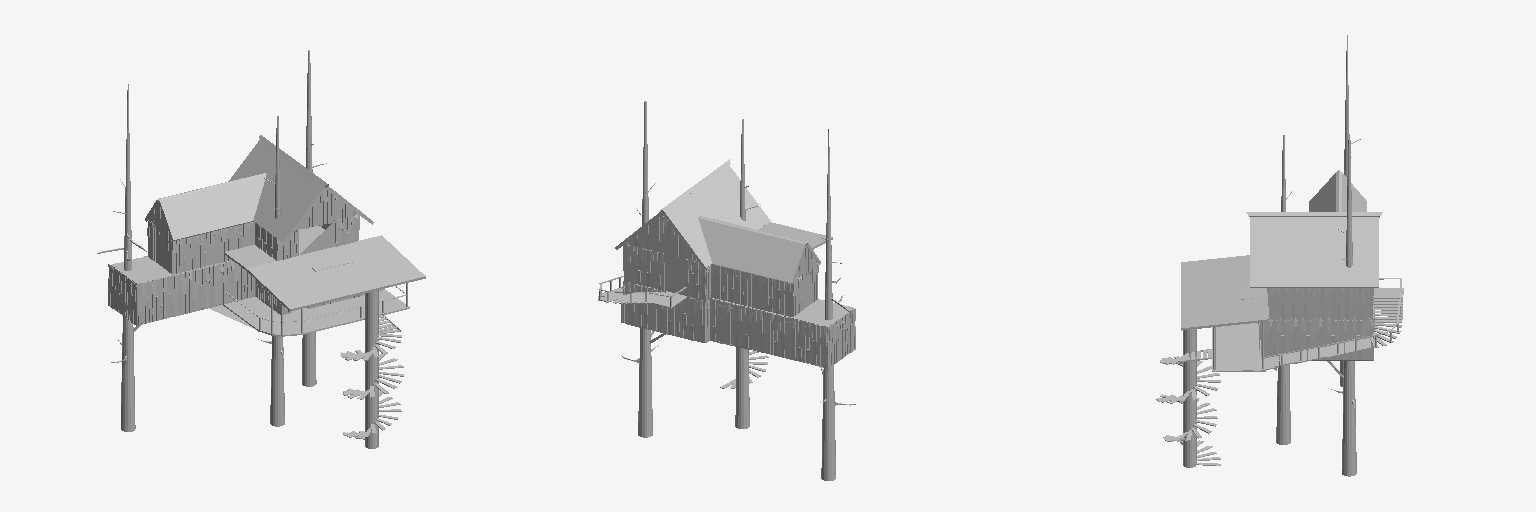
The model's file is tree_house.obj.
3 renders of one model, left to right at view 1: azimuth 30°, elevation 25°; view 2: azimuth 150°, elevation 25°; view 3: azimuth 270°, elevation 25°, orthographic.
Parts seen in each view (by area): view 1: roof_1_Cube.139, wall.002_Cube.120, floor_1_Cube.197, wall.007_Cube.281, tree_3_Cube.011, wall.009_Cube.310, stairs_1_Cube.269, tree_4_Cylinder.015, tree_1_Cube.010, inside_2_Cube.160, floor_2_Cube.027, tree_2_Cube.007 (+3 smaller); view 2: roof_1_Cube.139, wall.004_Cube.167, wall.003_Cube.153, wall.010_Cube.318, wall.006_Cube.210, tree_3_Cube.011, tree_2_Cube.007, inside_2_Cube.160, tree_1_Cube.010, wall.005_Cube.171, roof_2_Cube.295, inside_1_Cube.016 (+3 smaller); view 3: roof_1_Cube.139, wall.011_Cube.336, stairs_2_Cube.071, tree_2_Cube.007, floor_1_Cube.197, wall.005_Cube.171, stairs_1_Cube.269, tree_4_Cylinder.015, tree_1_Cube.010, wall_Cube.084, roof_2_Cube.295, inside_2_Cube.160 (+2 smaller).
Part boxes in pixels (bbox=[...]): roof_1_Cube.139: bbox=[160, 140, 425, 311]; wall.002_Cube.120: bbox=[138, 261, 254, 324]; floor_1_Cube.197: bbox=[114, 290, 406, 334]; wall.007_Cube.281: bbox=[173, 222, 266, 273]; tree_3_Cube.011: bbox=[97, 84, 146, 431]; wall.009_Cube.310: bbox=[267, 189, 357, 260]; stairs_1_Cube.269: bbox=[340, 315, 403, 439]; tree_4_Cylinder.015: bbox=[365, 290, 378, 448]; tree_1_Cube.010: bbox=[258, 116, 284, 426]; inside_2_Cube.160: bbox=[151, 192, 358, 271]; floor_2_Cube.027: bbox=[111, 226, 324, 288]; tree_2_Cube.007: bbox=[302, 50, 326, 386]; roof_1_Cube.139: bbox=[665, 165, 832, 282]; wall.004_Cube.167: bbox=[676, 298, 773, 354]; wall.003_Cube.153: bbox=[774, 308, 855, 369]; wall.010_Cube.318: bbox=[627, 216, 705, 300]; wall.006_Cube.210: bbox=[706, 264, 790, 316]; tree_3_Cube.011: bbox=[820, 129, 855, 480]; tree_2_Cube.007: bbox=[621, 101, 658, 437]; inside_2_Cube.160: bbox=[624, 214, 816, 316]; tree_1_Cube.010: bbox=[735, 119, 760, 428]; wall.005_Cube.171: bbox=[621, 281, 674, 334]; roof_2_Cube.295: bbox=[615, 159, 820, 283]; inside_1_Cube.016: bbox=[627, 284, 847, 362]; roof_1_Cube.139: bbox=[1181, 173, 1378, 330]; wall.011_Cube.336: bbox=[1269, 288, 1372, 318]; stairs_2_Cube.071: bbox=[1261, 288, 1403, 370]; tree_2_Cube.007: bbox=[1328, 140, 1356, 476]; floor_1_Cube.197: bbox=[1216, 323, 1279, 370]; wall.005_Cube.171: bbox=[1298, 301, 1374, 360]; stairs_1_Cube.269: bbox=[1156, 349, 1220, 465]; tree_4_Cylinder.015: bbox=[1183, 329, 1196, 467]; tree_1_Cube.010: bbox=[1274, 135, 1292, 444]; wall_Cube.084: bbox=[1258, 318, 1296, 359]; roof_2_Cube.295: bbox=[1246, 170, 1382, 287]; inside_2_Cube.160: bbox=[1276, 288, 1369, 317].
Bounding box in the file's own units: 29.58 × 41.01 × 26.31.